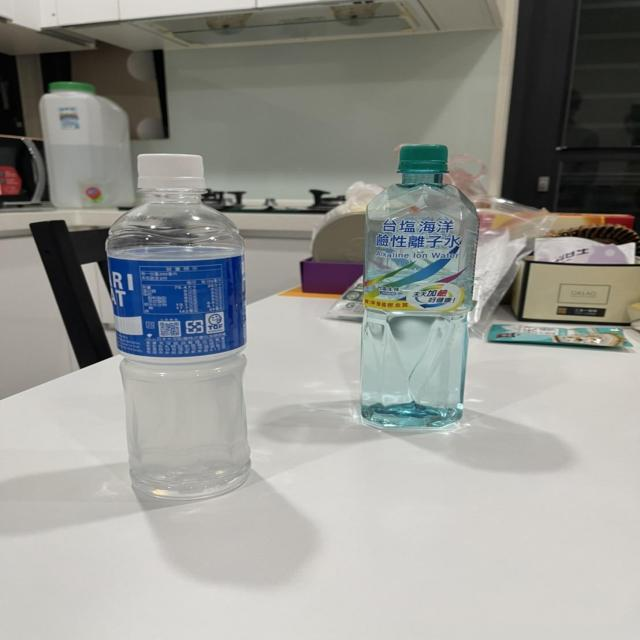bottle: (102, 144, 252, 498), (342, 135, 486, 439)
